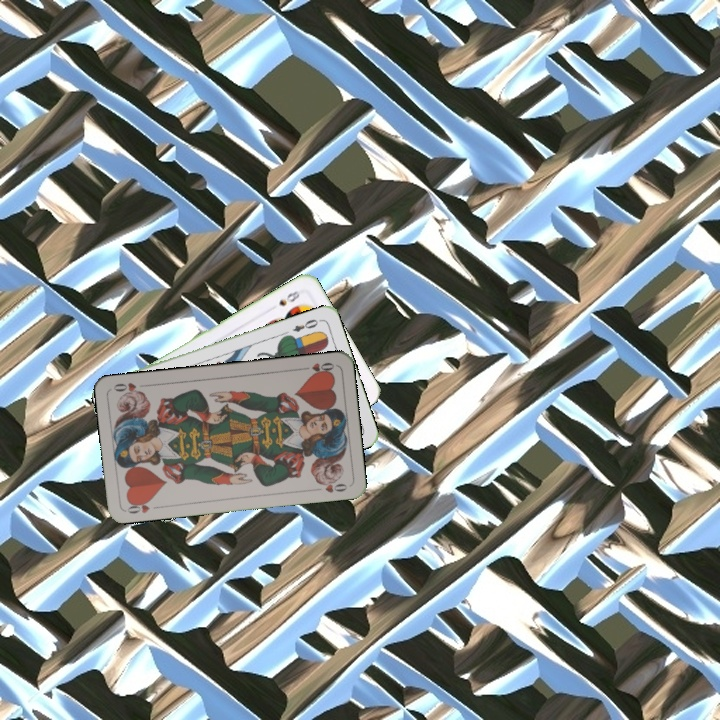EO: (289, 315, 323, 334)
HO: (123, 496, 163, 516), (297, 358, 337, 377)
S8: (275, 285, 306, 309)
